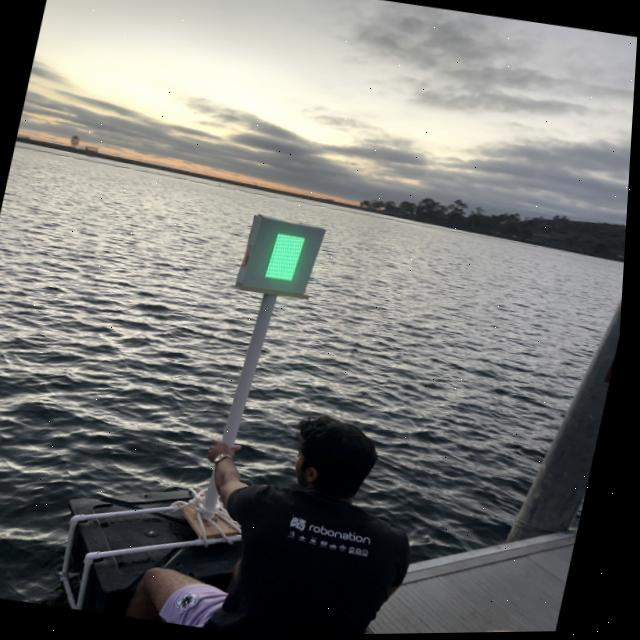led: (251, 223, 316, 295)
